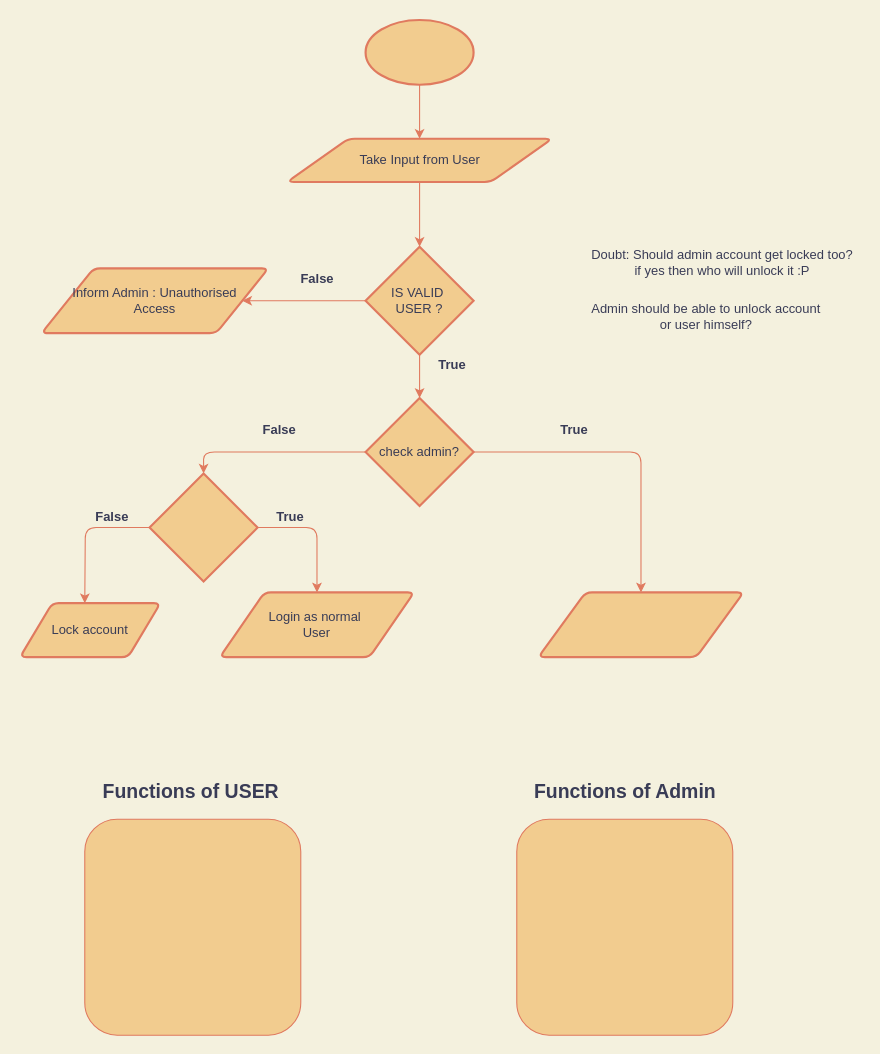
The diagram is 880 pixels wide and 1054 high, and some of its shapes have lost their labels. The shapes that lost their labels are listed below. From the top down, each one's centre as x and y in pixels, then its label:
(419,51): START
(203,527): Max attempts <=3
(640,624): Login as Admin
